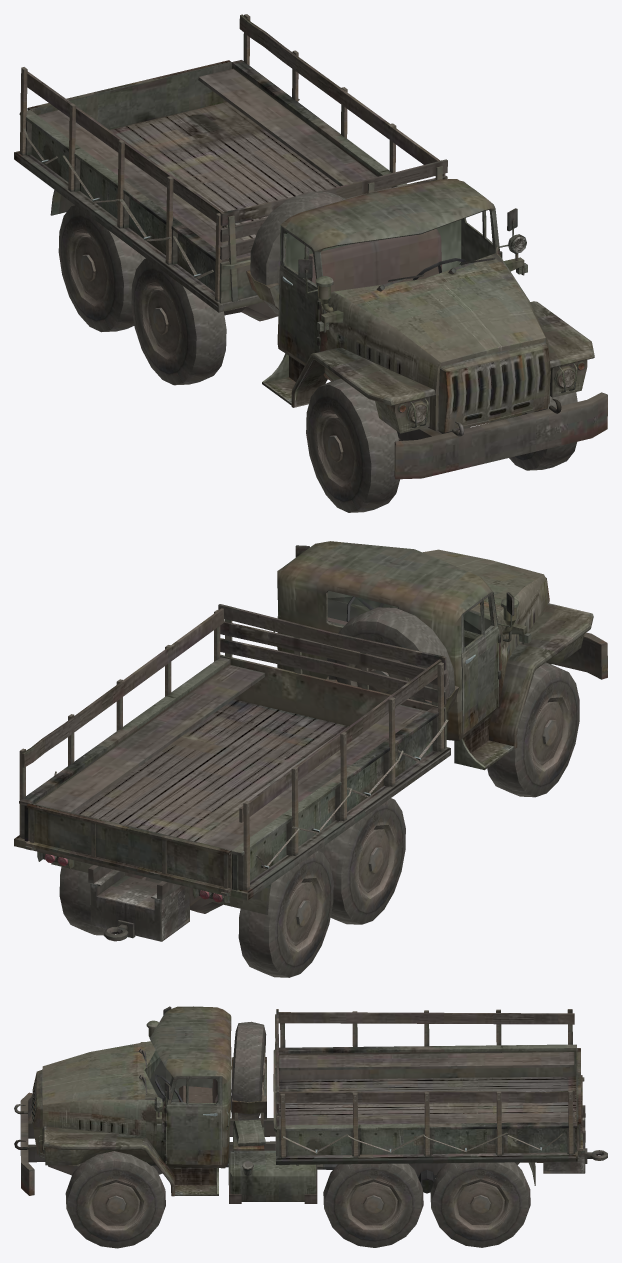
File: ural.DAE
3 views of the same model, one above another, from view 1: azimuth 30°, elevation 25°; view 2: azimuth 150°, elevation 25°; view 3: azimuth 270°, elevation 25° (orthographic). The views are drawn at different scales.
Visible parts, largest first — view 1: ural, w1, w2, w3; view 2: ural, w3, w1, w2; view 3: ural, w1, w3, w2.
Part boxes in pixels (x1,y1,x2,y2): ural: (14,14,607,479); w1: (306,378,577,512); w2: (131,258,226,385); w3: (58,205,145,332); ural: (14,541,607,941); w3: (59,850,333,977); w1: (487,662,579,797); w2: (318,798,405,924); ural: (14,1006,607,1203); w1: (65,1151,165,1248); w3: (430,1162,530,1247); w2: (323,1163,423,1247).
Bounding box in the file's own units: 118 × 112 × 337.
